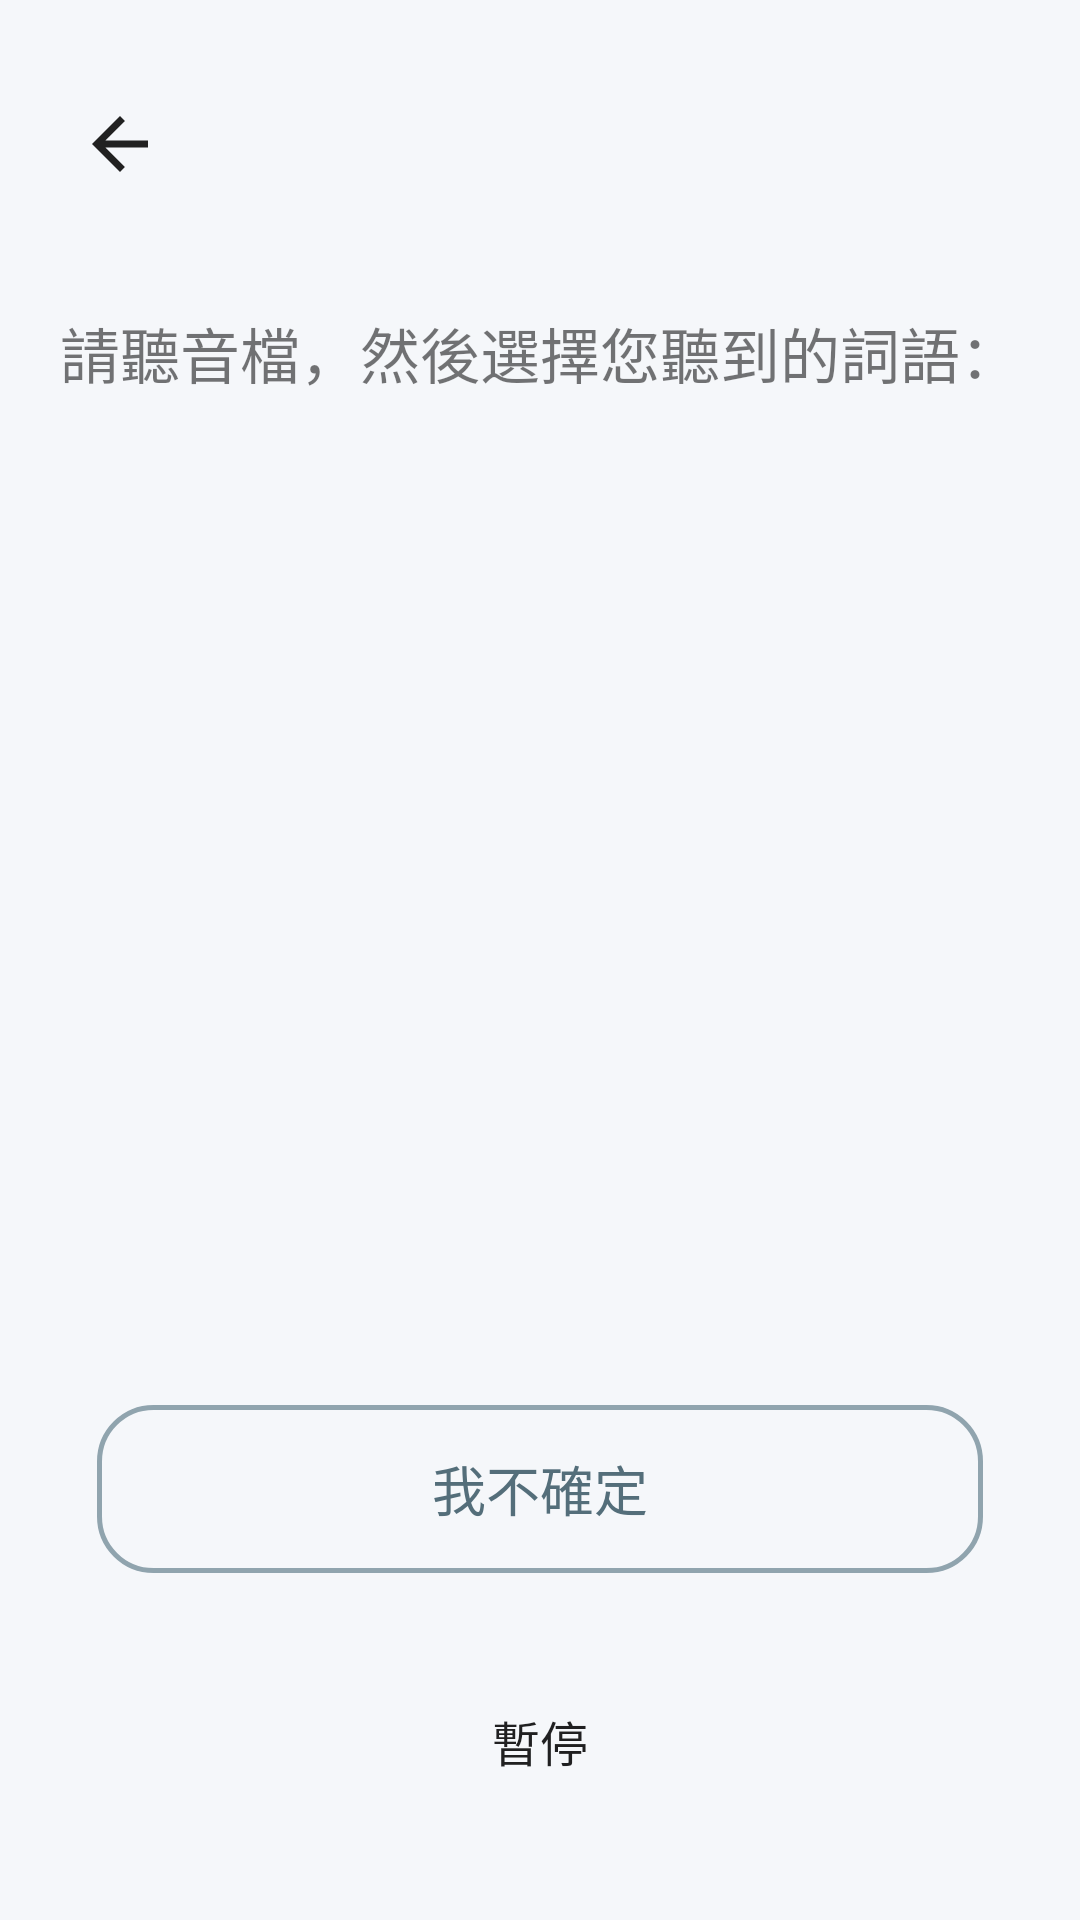

Icon click points for this 1080px×1920px phone screenshot, format (x,y):
結束並返回: (120,144)
